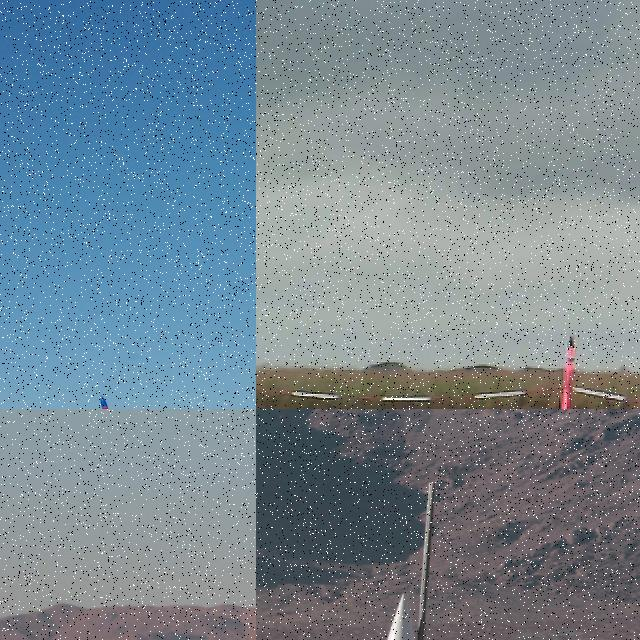Rocket: (330, 591, 442, 640), (548, 333, 580, 409), (99, 394, 133, 409)
